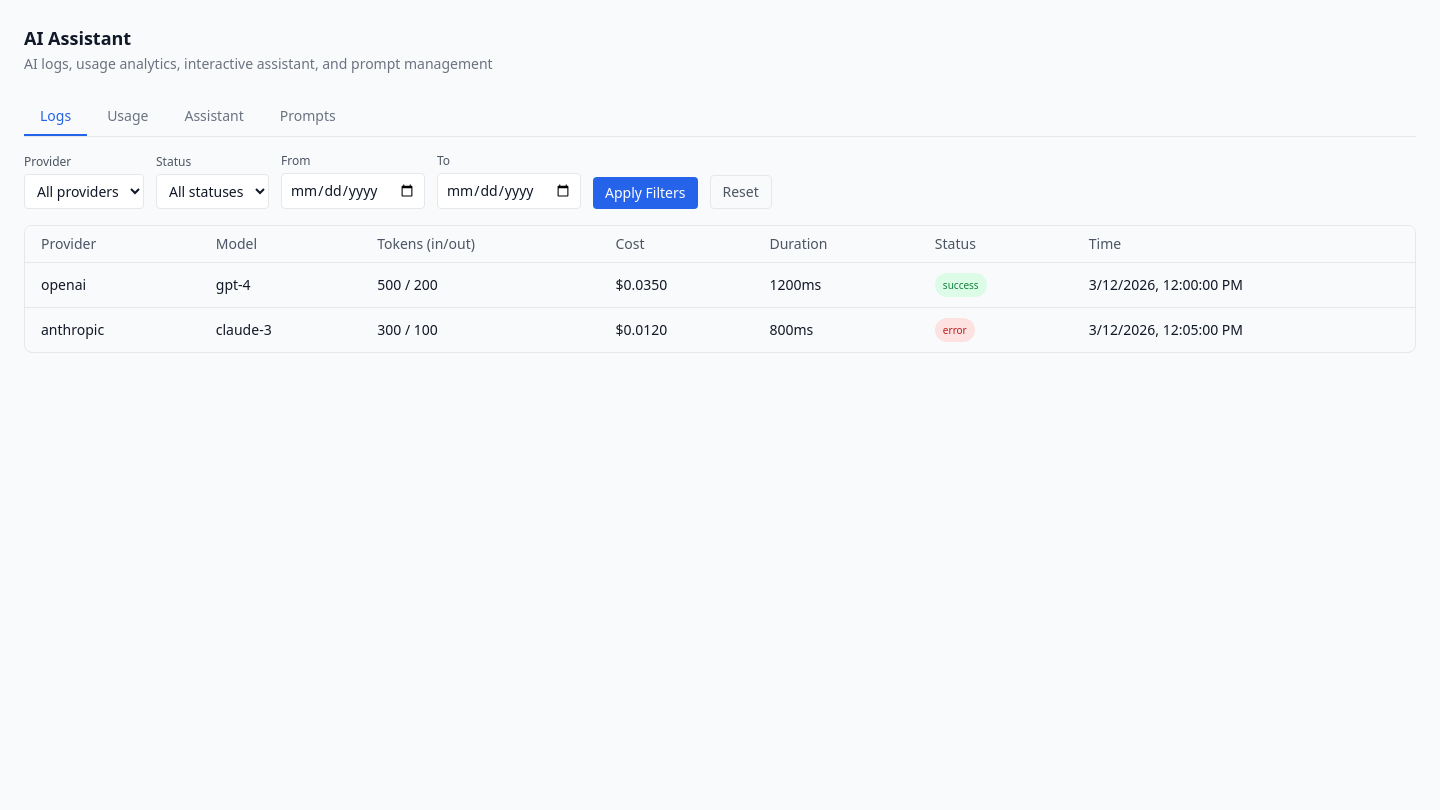
Test: AIAssistant › shows confirm dialog when deleting a prompt
The width and height of the screenshot is (1440, 810).
expect the text "openai" is shown: met, box [25, 262, 200, 308]
Click the button "Prompts" at [308, 117], box [264, 98, 352, 136]
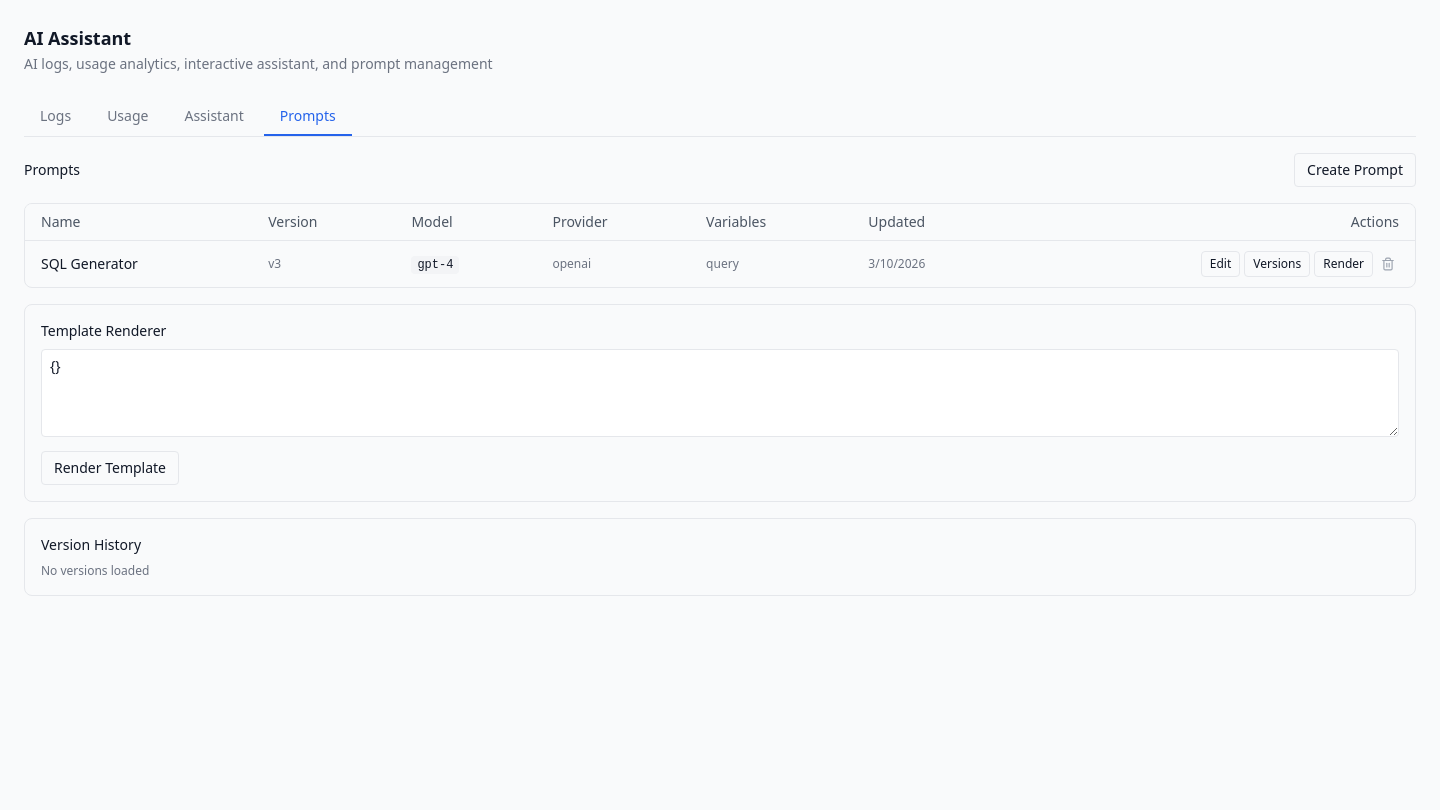
expect the text "SQL Generator" is shown: met, box [25, 240, 252, 287]
Click the button named "delete prompt sql generator" at [1388, 264], box [1377, 251, 1399, 277]
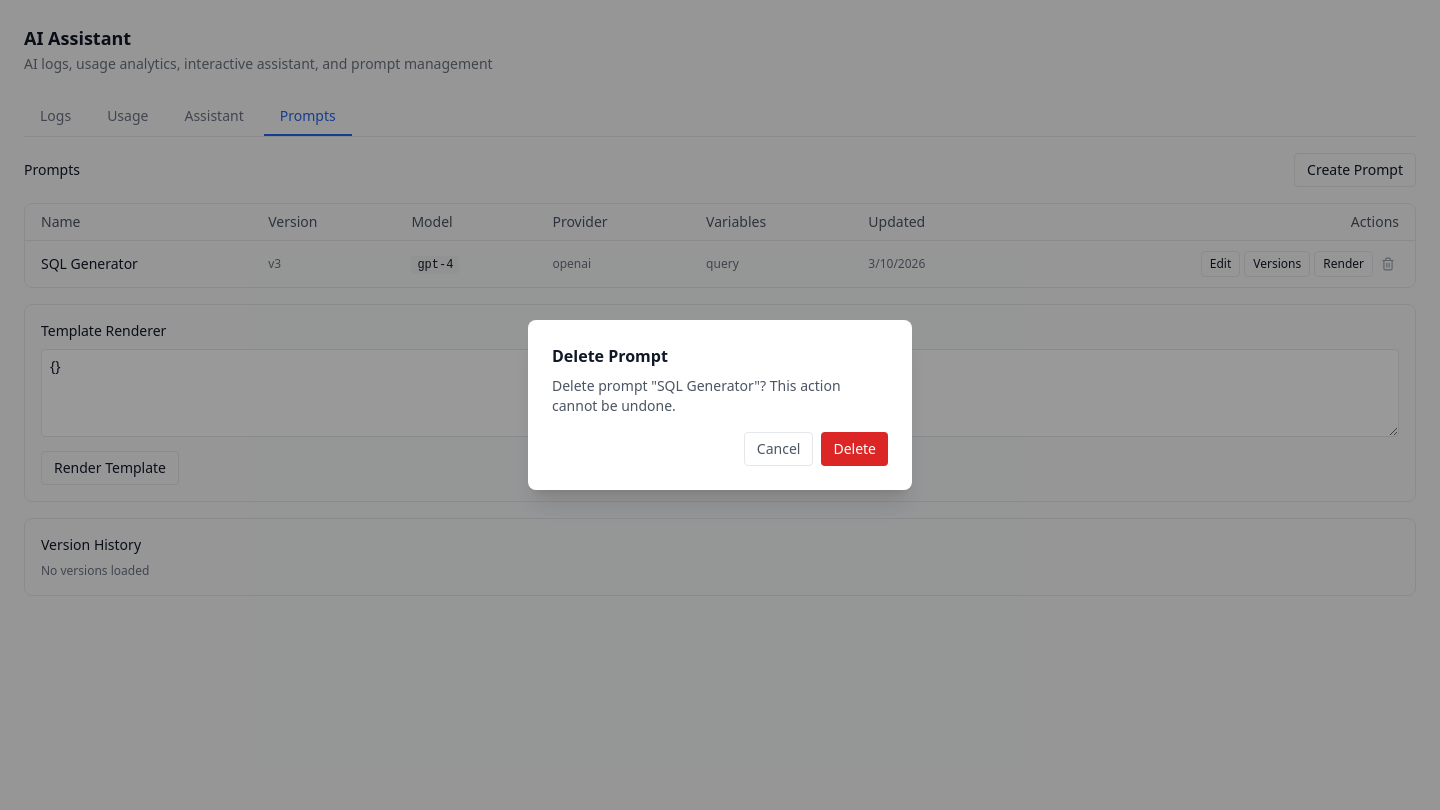
expect the heading "Delete Prompt" is shown: met, box [552, 345, 668, 367]
